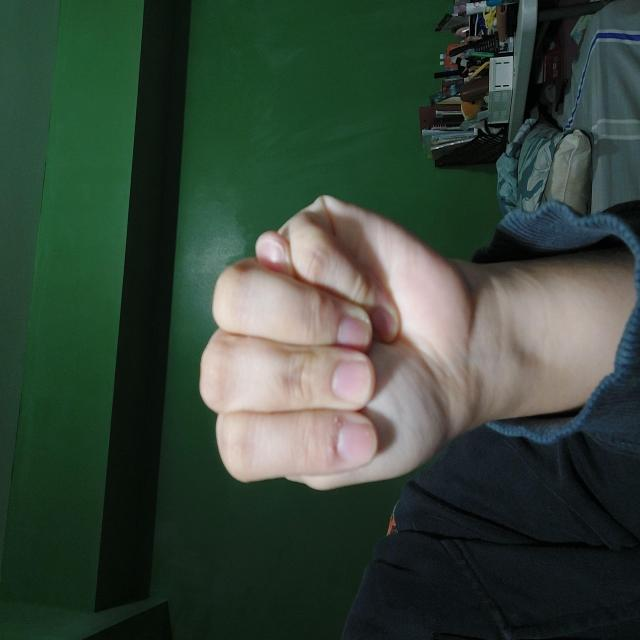M: (149, 199, 446, 474)
